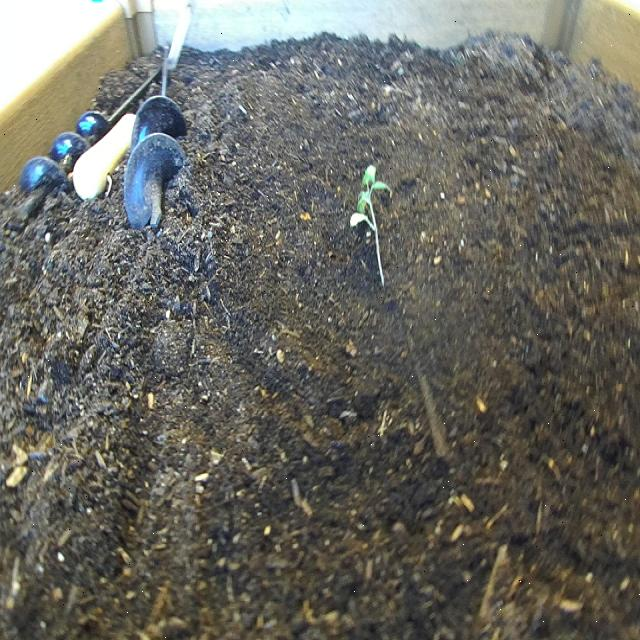Healthy: (349, 162, 395, 294)
